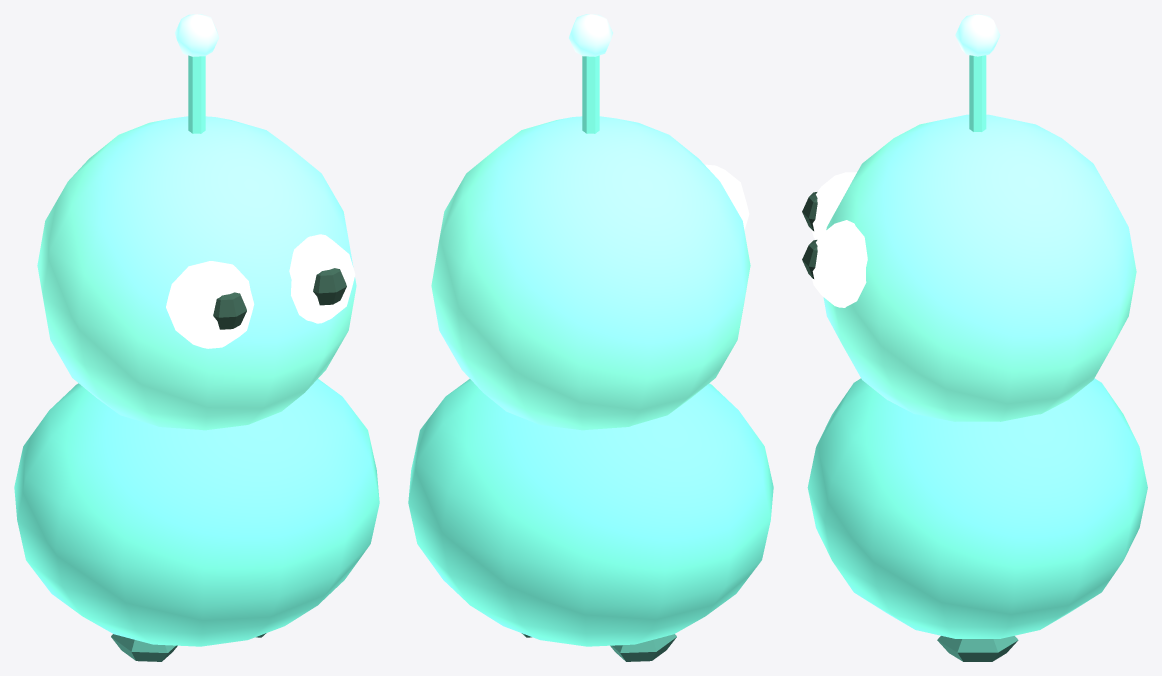
The model's file is cache_sprite.glb.
3 views of the same model, side by side, from view 1: azimuth 30°, elevation 25°; view 2: azimuth 150°, elevation 25°; view 3: azimuth 270°, elevation 25° (orthographic).
Visible parts, largest first — view 1: CSBody, CSHead, CSEye_-0.1, CSEye_0.1, CSTip, CSAntenna, CSFoot_-0.1, CSPupil_-0.1, CSPupil_0.1; view 2: CSHead, CSBody, CSTip, CSAntenna, CSFoot_-0.1, CSEye_-0.1; view 3: CSHead, CSBody, CSEye_0.1, CSTip, CSFoot_0.1, CSEye_-0.1, CSAntenna.
Boxes of the visible parts, x1,y1,x2,y2 form: CSBody: [14, 379, 379, 646]; CSHead: [37, 116, 356, 430]; CSEye_-0.1: [166, 261, 254, 348]; CSEye_0.1: [289, 234, 355, 323]; CSTip: [175, 14, 218, 56]; CSAntenna: [188, 55, 205, 133]; CSFoot_-0.1: [111, 634, 177, 661]; CSPupil_-0.1: [213, 292, 246, 329]; CSPupil_0.1: [313, 268, 346, 305]; CSHead: [431, 116, 750, 430]; CSBody: [408, 379, 773, 646]; CSTip: [569, 14, 612, 56]; CSAntenna: [582, 55, 599, 133]; CSFoot_-0.1: [610, 634, 676, 661]; CSEye_-0.1: [705, 164, 749, 230]; CSHead: [823, 114, 1136, 421]; CSBody: [807, 378, 1147, 638]; CSEye_0.1: [811, 220, 867, 307]; CSTip: [955, 14, 1000, 56]; CSFoot_0.1: [937, 636, 1018, 661]; CSEye_-0.1: [811, 172, 856, 239]; CSAntenna: [969, 55, 986, 131].
Size of the model in its own units: 0.6435 by 1.21 by 0.61.
